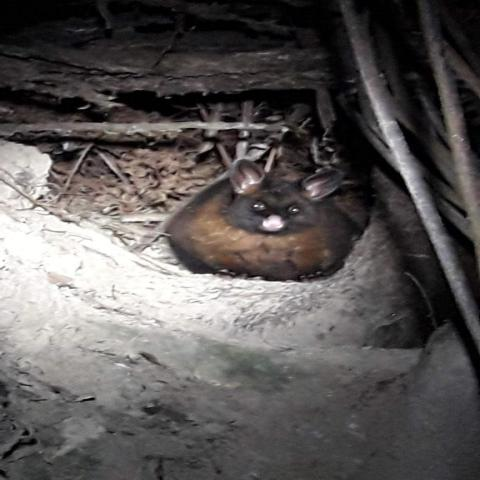small_animal: (158, 155, 375, 281)
